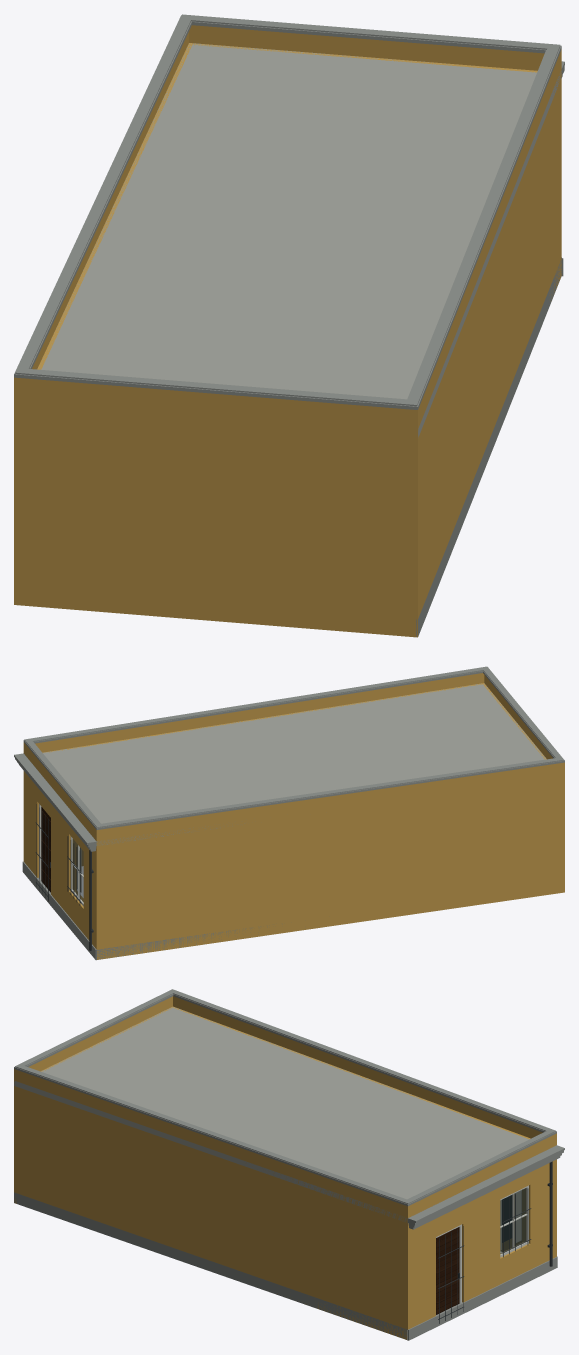
The model's file is building.glb.
3 views of the same model, one above another, from view 1: azimuth 30°, elevation 25°; view 2: azimuth 150°, elevation 25°; view 3: azimuth 270°, elevation 25° (orthographic). The views are drawn at different scales.
Visible parts, largest first — view 1: roof/main:0/roof_slab#0001, main:0/edge0/z0/main:0/edge0/z0/wall_0_0/core0, main:0/edge1/z0/main:0/edge1/z0/wall_0_0/core0, roof/main:0/parapet#0001, roof/main:0/parapet_cap#0002, roof/main:0/parapet_cap#0001, main:0/edge1/z0/plinth#0001, main:0/edge3/z0/main:0/edge3/z0/wall_0_0/core0, main:0/edge2/z0/main:0/edge2/z0/wall_0_0, main:0/edge0/z0/main:0/edge0/z0/wall_0_0/clip2; view 2: main:0/edge3/z0/main:0/edge3/z0/wall_0_0/core0, roof/main:0/roof_slab#0001, roof/main:0/parapet#0001, roof/main:0/parapet_cap#0002, main:0/edge2/z0/main:0/edge2/z0/wall_0_0, roof/main:0/parapet_cap#0001, main:0/edge2/z0/proj_cornice_00/cornice_drip#0001, main:0/edge2/z0/plinth#0001, main:0/edge3/z0/plinth#0001, main:0/edge1/z0/main:0/edge1/z0/wall_0_0/core0, main:0/edge2/z0/opening_u3.34_v0.95/glazing#0001; view 3: main:0/edge1/z0/main:0/edge1/z0/wall_0_0/core0, roof/main:0/roof_slab#0001, roof/main:0/parapet#0001, main:0/edge2/z0/main:0/edge2/z0/wall_0_0, roof/main:0/parapet_cap#0002, main:0/edge1/z0/plinth#0001, roof/main:0/parapet_cap#0001, main:0/edge2/z0/plinth#0001, main:0/edge2/z0/proj_cornice_00/cornice_drip#0001, main:0/edge2/z0/opening_u3.34_v0.95/glazing#0001, main:0/edge2/z0/opening_u1.01_v0.04/door_leaf#0001, main:0/edge3/z0/main:0/edge3/z0/wall_0_0/core0 (+1 smaller).
Part boxes in pixels (<box>): roof/main:0/roof_slab#0001: <box>38,43,561,437</box>; main:0/edge0/z0/main:0/edge0/z0/wall_0_0/core0: <box>14,397,417,637</box>; main:0/edge1/z0/main:0/edge1/z0/wall_0_0/core0: <box>420,69,561,612</box>; roof/main:0/parapet#0001: <box>14,25,561,429</box>; roof/main:0/parapet_cap#0002: <box>15,14,560,406</box>; roof/main:0/parapet_cap#0001: <box>14,15,561,409</box>; main:0/edge1/z0/plinth#0001: <box>416,260,561,637</box>; main:0/edge3/z0/main:0/edge3/z0/wall_0_0/core0: <box>37,43,192,369</box>; main:0/edge2/z0/main:0/edge2/z0/wall_0_0: <box>189,43,537,72</box>; main:0/edge0/z0/main:0/edge0/z0/wall_0_0/clip2: <box>417,429,420,637</box>; main:0/edge3/z0/main:0/edge3/z0/wall_0_0/core0: <box>96,773,564,959</box>; roof/main:0/roof_slab#0001: <box>25,683,545,845</box>; roof/main:0/parapet#0001: <box>23,673,564,841</box>; roof/main:0/parapet_cap#0002: <box>24,666,564,827</box>; main:0/edge2/z0/main:0/edge2/z0/wall_0_0: <box>23,759,96,948</box>; roof/main:0/parapet_cap#0001: <box>23,671,564,829</box>; main:0/edge2/z0/proj_cornice_00/cornice_drip#0001: <box>14,753,96,844</box>; main:0/edge2/z0/plinth#0001: <box>22,861,96,959</box>; main:0/edge3/z0/plinth#0001: <box>97,924,282,959</box>; main:0/edge1/z0/main:0/edge1/z0/wall_0_0/core0: <box>44,683,482,865</box>; main:0/edge2/z0/opening_u3.34_v0.95/glazing#0001: <box>72,839,83,901</box>; main:0/edge1/z0/main:0/edge1/z0/wall_0_0/core0: <box>20,1088,407,1339</box>; roof/main:0/roof_slab#0001: <box>14,1007,556,1222</box>; roof/main:0/parapet#0001: <box>14,996,556,1217</box>; main:0/edge2/z0/main:0/edge2/z0/wall_0_0: <box>408,1145,556,1329</box>; roof/main:0/parapet_cap#0002: <box>15,989,555,1203</box>; main:0/edge1/z0/plinth#0001: <box>15,1193,407,1339</box>; roof/main:0/parapet_cap#0001: <box>14,994,556,1206</box>; main:0/edge2/z0/plinth#0001: <box>408,1257,557,1340</box>; main:0/edge2/z0/proj_cornice_00/cornice_drip#0001: <box>408,1145,564,1222</box>; main:0/edge2/z0/opening_u3.34_v0.95/glazing#0001: <box>500,1188,526,1253</box>; main:0/edge2/z0/opening_u1.01_v0.04/door_leaf#0001: <box>436,1227,459,1314</box>; main:0/edge3/z0/main:0/edge3/z0/wall_0_0/core0: <box>172,1006,530,1251</box>.
Bounding box in the file's own units: 12.21 × 3.57 × 13.04.
9 materials, 1 textured.
